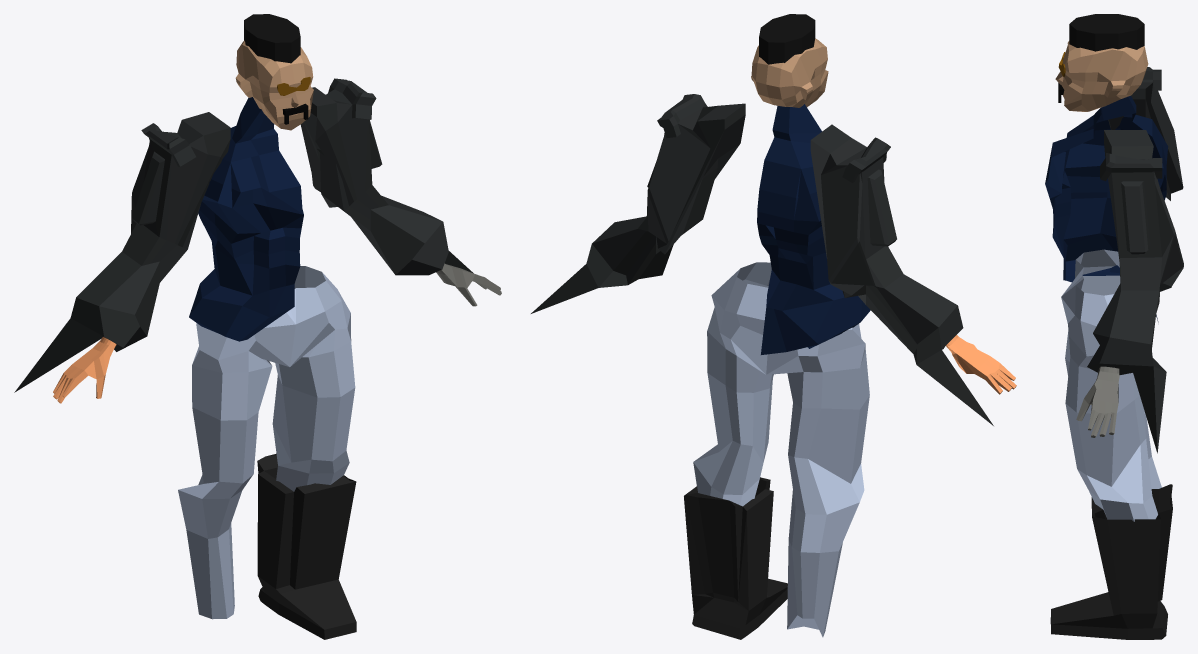
The model's file is currentmodels.glb.
The picture shows the model from 3 angles, left to right: view 1: azimuth 30°, elevation 25°; view 2: azimuth 150°, elevation 25°; view 3: azimuth 270°, elevation 25°; orthographic projection. The views are drawn at different scales.
Parts seen in each view (by area): view 1: pants.002, arms.002, torso.002, yeezys.002, head.002, hair, L HAND.001, R HAND.001; view 2: pants.002, arms.002, torso.002, yeezys.002, head.002, hair, L HAND.001; view 3: arms.002, pants.002, yeezys.002, torso.002, head.002, hair, R HAND.001.
Boxes of the visible parts, x1,y1,x2,y2 form: pants.002: (178, 266, 355, 619); arms.002: (14, 78, 473, 392); torso.002: (189, 97, 303, 341); yeezys.002: (257, 453, 356, 639); head.002: (235, 40, 313, 130); hair: (244, 14, 300, 63); L HAND.001: (53, 337, 116, 403); R HAND.001: (436, 263, 501, 306); pants.002: (693, 262, 869, 637); arms.002: (531, 94, 993, 425); torso.002: (757, 104, 870, 354); yeezys.002: (684, 477, 787, 639); head.002: (751, 38, 828, 107); hair: (759, 14, 815, 64); L HAND.001: (946, 335, 1016, 394); arms.002: (1087, 67, 1183, 453); pants.002: (1061, 249, 1161, 521); yeezys.002: (1050, 484, 1172, 639); torso.002: (1045, 95, 1168, 322); head.002: (1055, 41, 1148, 111); hair: (1069, 14, 1144, 51); R HAND.001: (1076, 366, 1119, 437).
Bounding box in the file's own units: 4.93 × 6.05 × 1.3.
